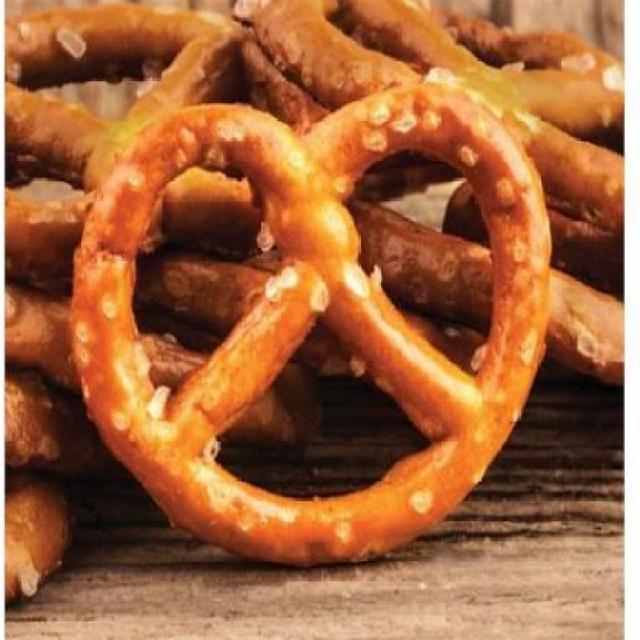Salatini packaged: (69, 83, 552, 572)
